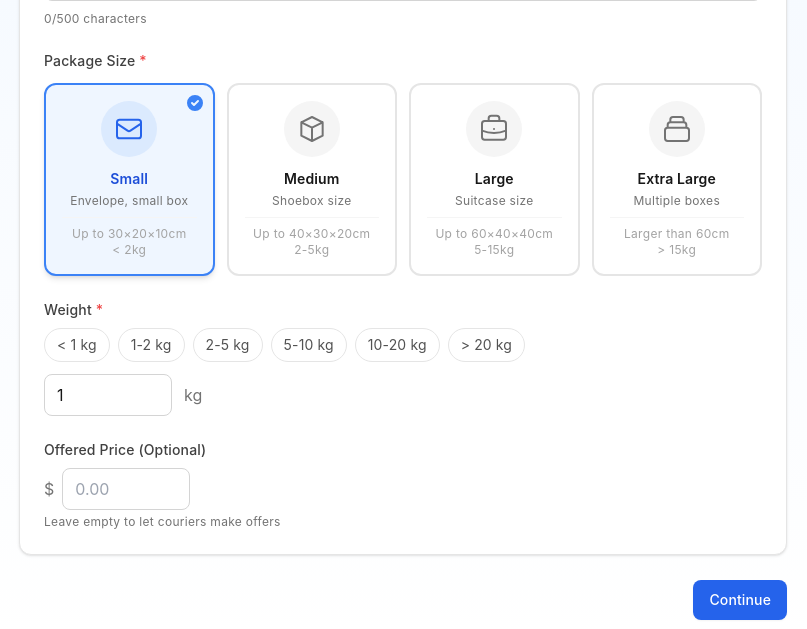
Test: CreatePackagePage › Step 1: Package Details › shows validation error when description is empty
(page scrolled)
Step 1. Click the button "Continue" → (740, 600), box [693,580,787,620]
(page scrolled)
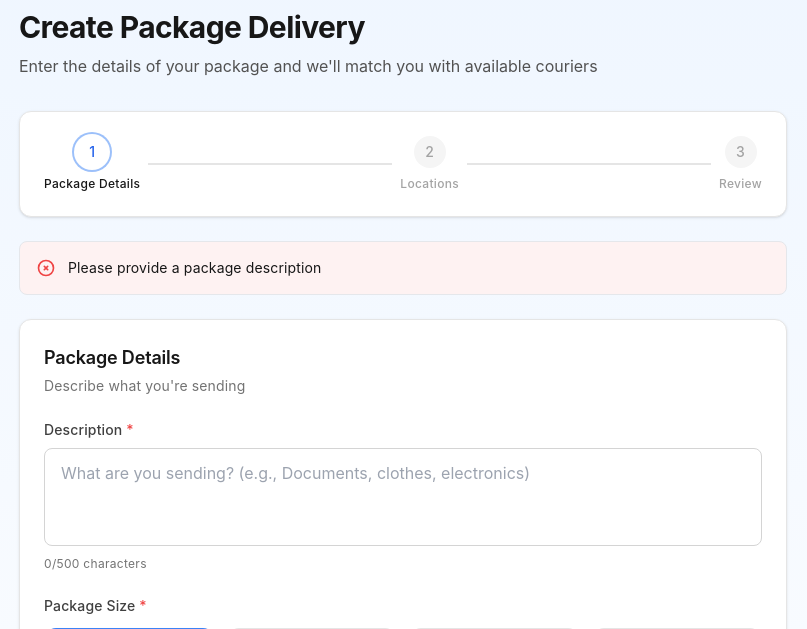
Expected: the text "Please provide a package description" is shown, [68,259,321,276]
